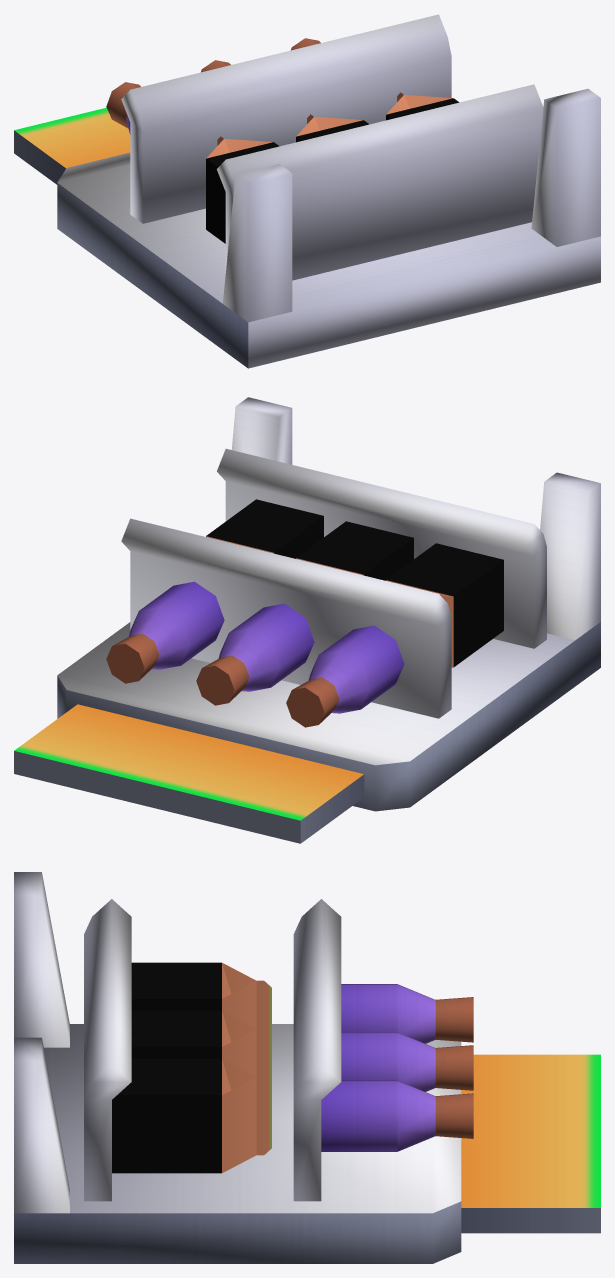
The model's file is shelf-end.obj.
The picture shows the model from 3 angles, top to bottom: view 1: azimuth 30°, elevation 25°; view 2: azimuth 150°, elevation 25°; view 3: azimuth 270°, elevation 25°; orthographic projection. The views are drawn at different scales.
Parts seen in each view (by area): view 1: shelf-end.009; view 2: shelf-end.009; view 3: shelf-end.009.
Part boxes in pixels (box(x1,y1,x2,y2)): shelf-end.009: box(14, 14, 600, 368); shelf-end.009: box(14, 397, 600, 843); shelf-end.009: box(14, 872, 600, 1263).
Size of the model in its own units: 0.8 by 0.4 by 1.05.
